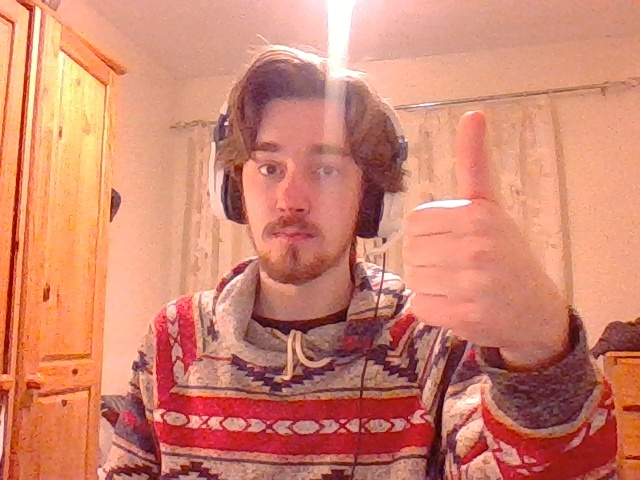good: (404, 110, 566, 348)
